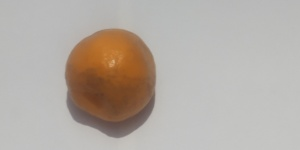BAD: (65, 28, 157, 125)
